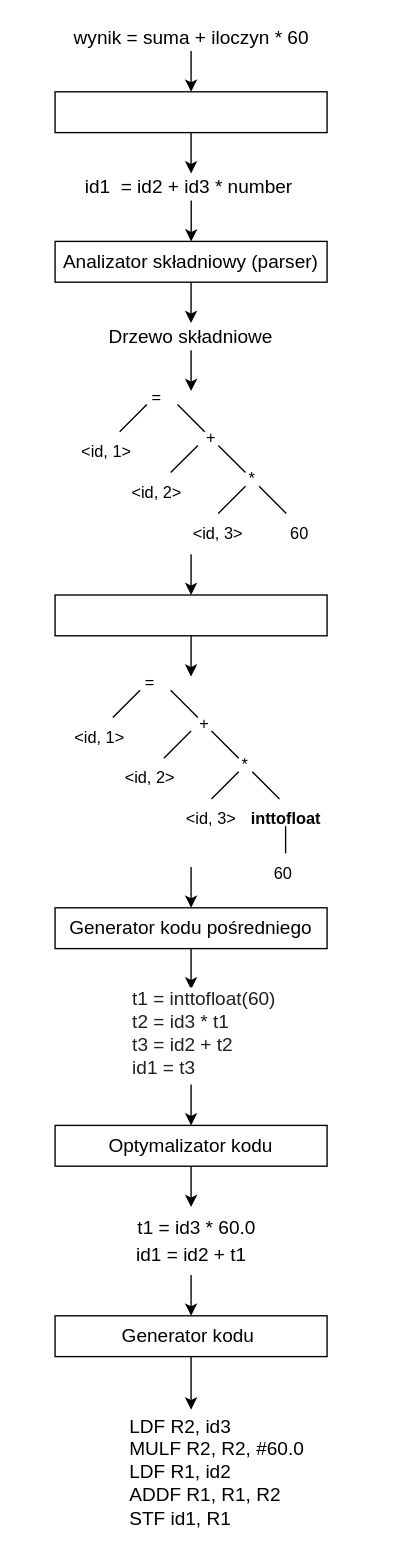
This 403x1556 diagram has some shape labels left out. Each missing label, with the centre of its shape:
"Analizator leksykalny (lekser)" goes at (x=190, y=111).
"Analizator semantyczny" goes at (x=190, y=615).
